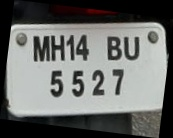character: (32, 34, 50, 61), (123, 35, 141, 60), (90, 67, 105, 96), (106, 35, 122, 61), (49, 69, 63, 98), (71, 69, 85, 98), (50, 34, 65, 61), (75, 33, 89, 61), (111, 68, 124, 96), (65, 33, 75, 60)
